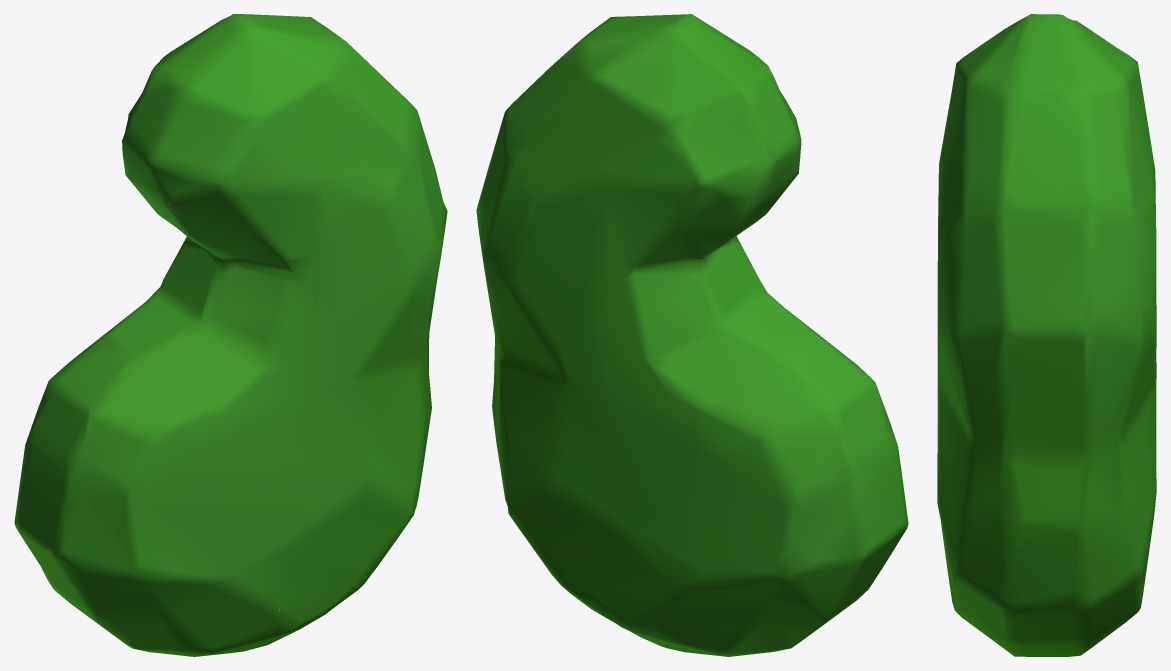
Rendered from gen3d-magic-bean-lod0.glb.
3 views of the same model, side by side, from view 1: azimuth 30°, elevation 25°; view 2: azimuth 150°, elevation 25°; view 3: azimuth 270°, elevation 25° (orthographic).
Visible parts, largest first — view 1: part_0; view 2: part_0; view 3: part_0.
Part boxes in pixels (box(x1,y1,x2,y2)): part_0: box(14, 14, 447, 656); part_0: box(476, 14, 908, 656); part_0: box(937, 14, 1156, 656).
Size of the model in its own units: 0.654 by 0.9989 by 0.3131.
